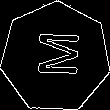M_W: (30, 33, 81, 81)
